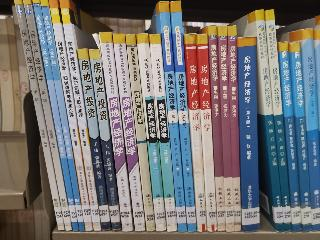book-spine: (14, 0, 66, 231), (22, 0, 72, 232), (33, 0, 80, 233), (48, 0, 93, 233), (41, 0, 85, 233), (59, 1, 101, 233), (254, 10, 286, 234), (111, 32, 146, 233), (98, 32, 133, 230), (147, 33, 180, 232), (169, 1, 197, 232), (264, 10, 293, 233), (136, 32, 168, 231), (160, 1, 187, 233), (78, 49, 111, 232), (88, 50, 121, 231), (126, 33, 156, 232), (276, 42, 302, 232), (184, 33, 208, 231), (238, 37, 260, 232), (206, 27, 227, 231), (291, 43, 313, 232), (197, 35, 218, 232), (300, 29, 320, 231), (218, 27, 235, 231), (227, 27, 241, 231)
